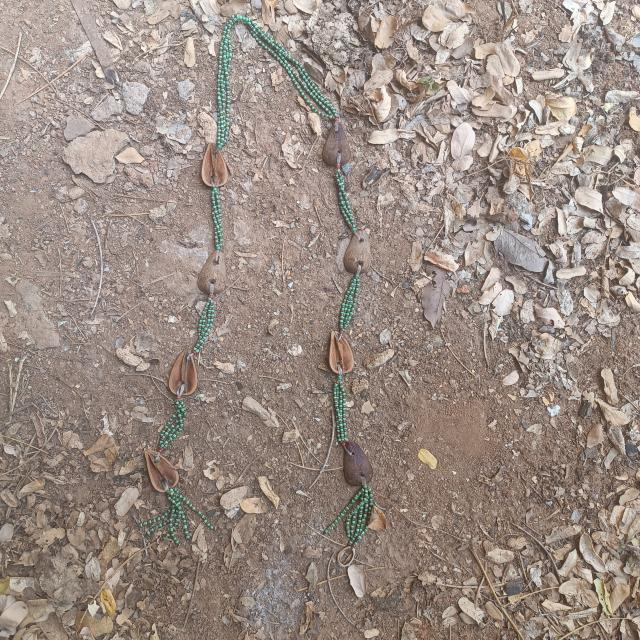facedown: (319, 113, 356, 174), (341, 432, 378, 489), (342, 221, 378, 279), (197, 244, 231, 299)
faceup: (140, 439, 184, 497), (166, 343, 200, 402), (324, 327, 359, 379), (197, 137, 230, 192)
